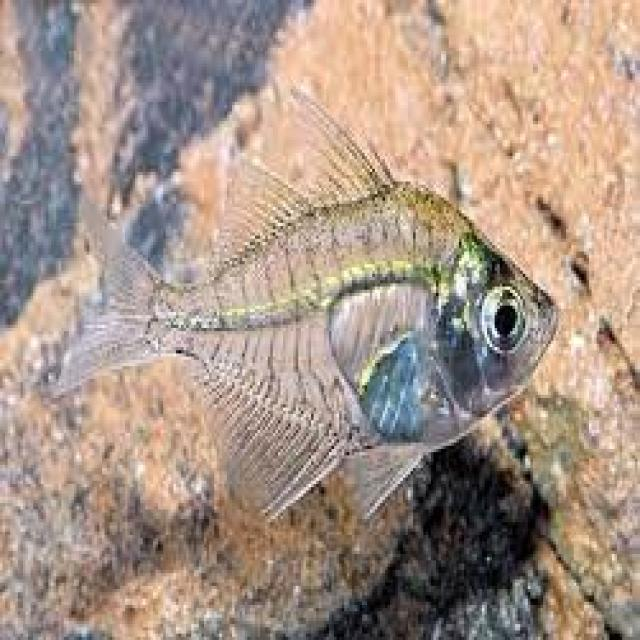Glass-Perchlet: (31, 80, 561, 546)
